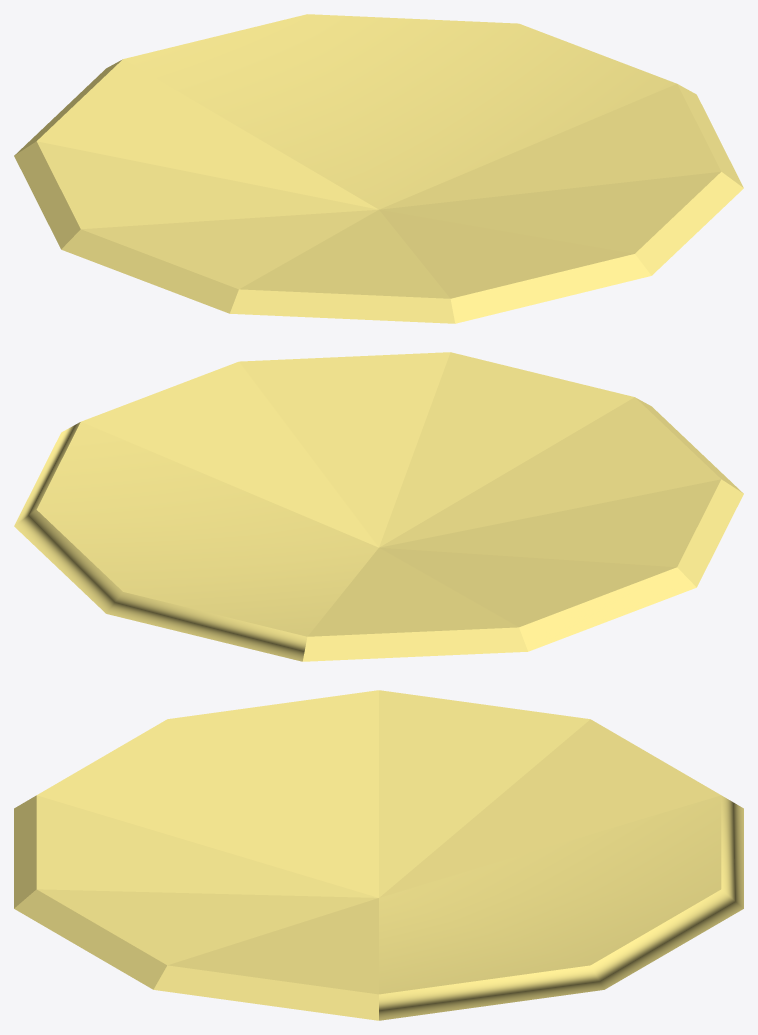
File: panzi2.FBX
3 renders of one model, top to bottom at view 1: azimuth 30°, elevation 25°; view 2: azimuth 150°, elevation 25°; view 3: azimuth 270°, elevation 25°, orthographic. The views are drawn at different scales.
Parts seen in each view (by area): view 1: 对象007, Crepe_Dish002, 对象008; view 2: 对象007, 对象008, Crepe_Dish002; view 3: 对象007, 对象008, Crepe_Dish002.
Boxes of the visible parts, x1=… form: 对象007: x1=14, y1=59, x2=455, y2=323; Crepe_Dish002: x1=123, y1=14, x2=676, y2=209; 对象008: x1=379, y1=84, x2=743, y2=323; 对象007: x1=302, y1=397, x2=743, y2=661; 对象008: x1=81, y1=352, x2=634, y2=547; Crepe_Dish002: x1=14, y1=422, x2=378, y2=661; 对象007: x1=37, y1=690, x2=720, y2=897; 对象008: x1=14, y1=795, x2=378, y2=1020; Crepe_Dish002: x1=379, y1=795, x2=743, y2=1020.
Bounding box in the file's own units: 52.27 × 4.5 × 49.71.
Materials: 1 (1 with a texture image).
